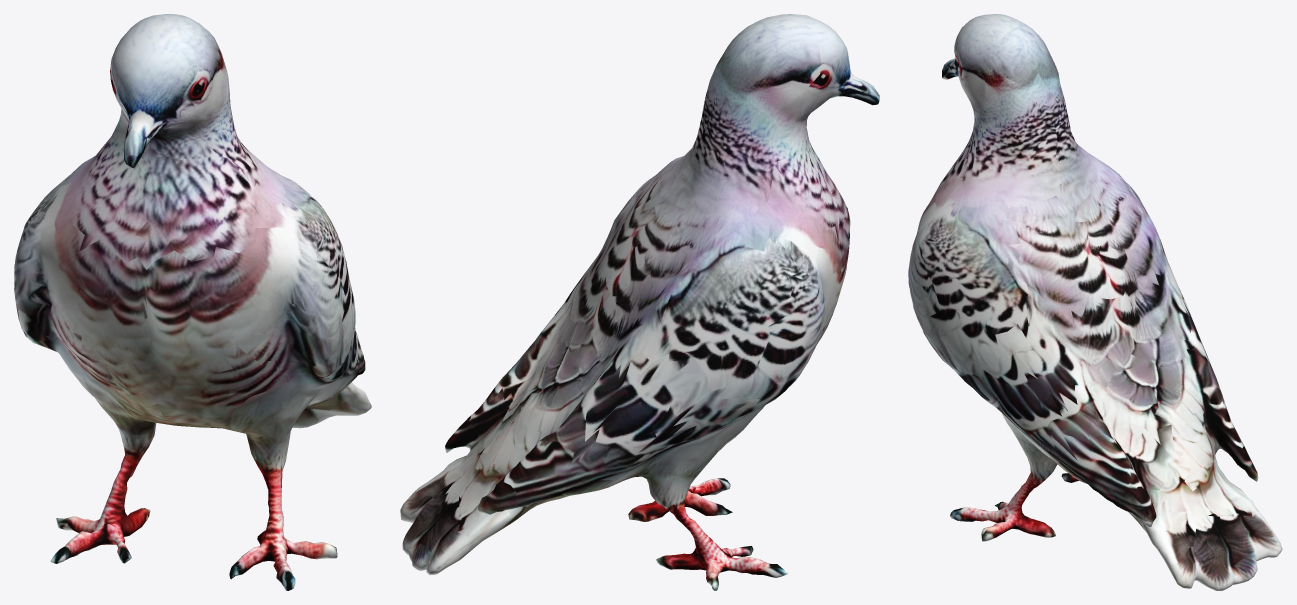
File: pombo.glb
The picture shows the model from 3 angles, left to right: view 1: azimuth 30°, elevation 25°; view 2: azimuth 150°, elevation 25°; view 3: azimuth 270°, elevation 25°; orthographic projection. The views are drawn at different scales.
Parts seen in each view (by area): view 1: Pigeon; view 2: Pigeon; view 3: Pigeon.
Part boxes in pixels (x1,y1,x2,y2): Pigeon: (14,14,371,590); Pigeon: (400,14,879,590); Pigeon: (908,14,1282,590).
Size of the model in its own units: 0.2255 by 0.3 by 0.2193.
1 material, 1 textured.
